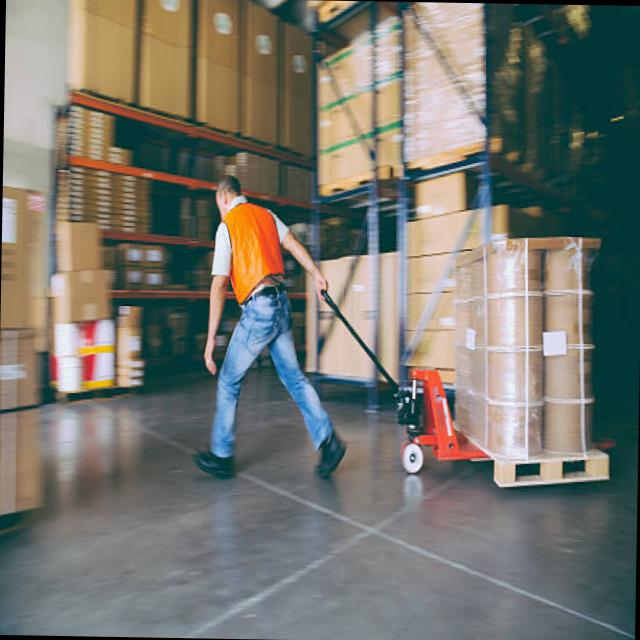Wooden-Pallets: (498, 450, 616, 497)
